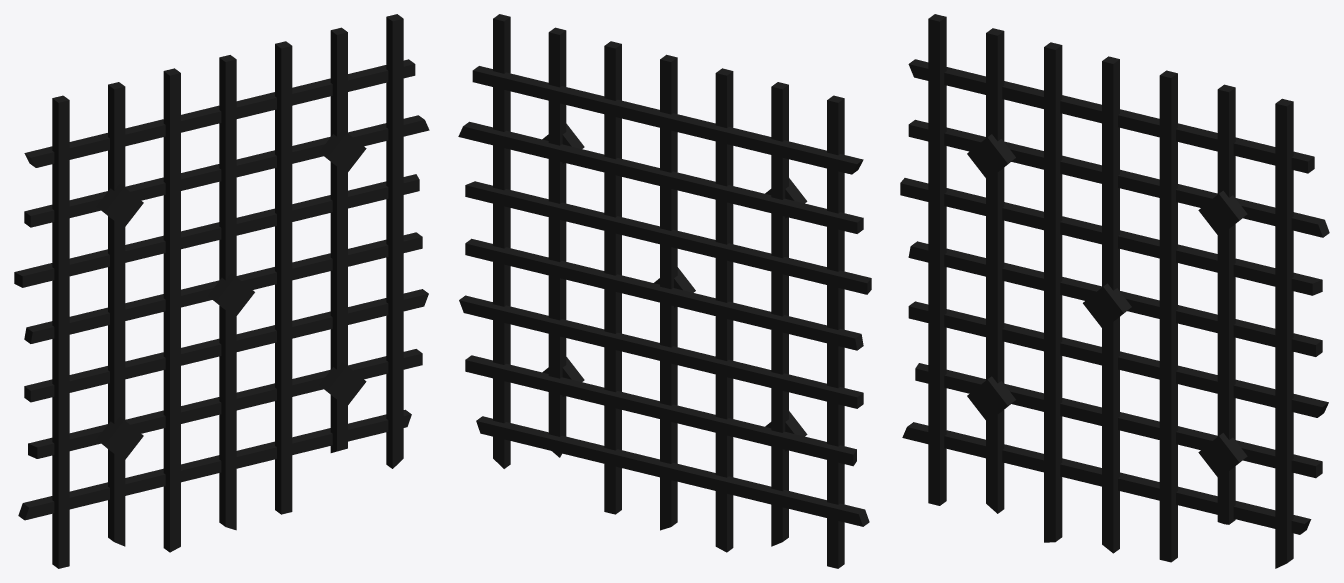
The model's file is Bars.fbx.
3 renders of one model, left to right at view 1: azimuth 30°, elevation 25°; view 2: azimuth 150°, elevation 25°; view 3: azimuth 330°, elevation 25°, orthographic. The views are drawn at different scales.
Parts seen in each view (by area): view 1: Bars; view 2: Bars; view 3: Bars.
Boxes of the visible parts, <box> form: Bars: <box>14,14,429,568</box>; Bars: <box>458,14,871,568</box>; Bars: <box>900,14,1329,568</box>.
Size of the model in its own units: 735 by 819 by 47.21.
1 material, 1 textured.
